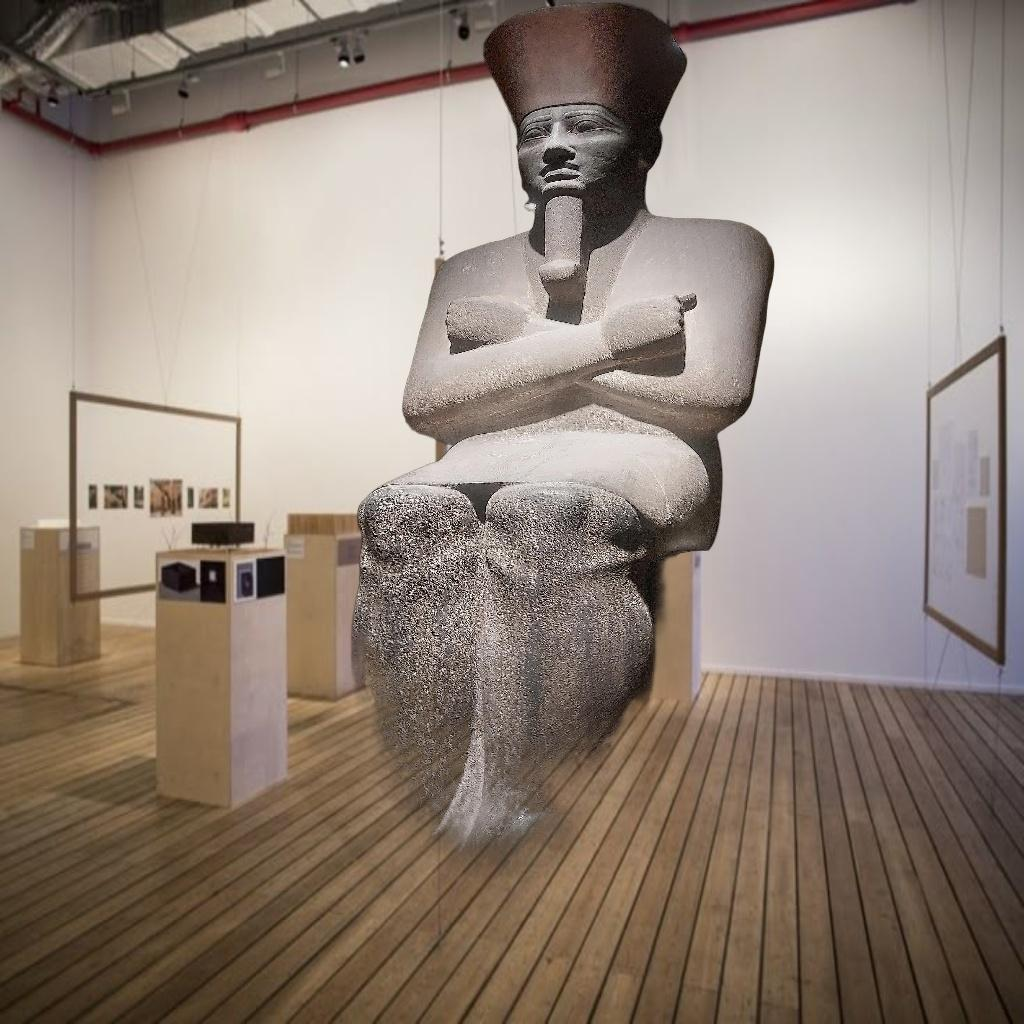Mentuhotep Nebhetpre: (13, 2, 778, 1022)
